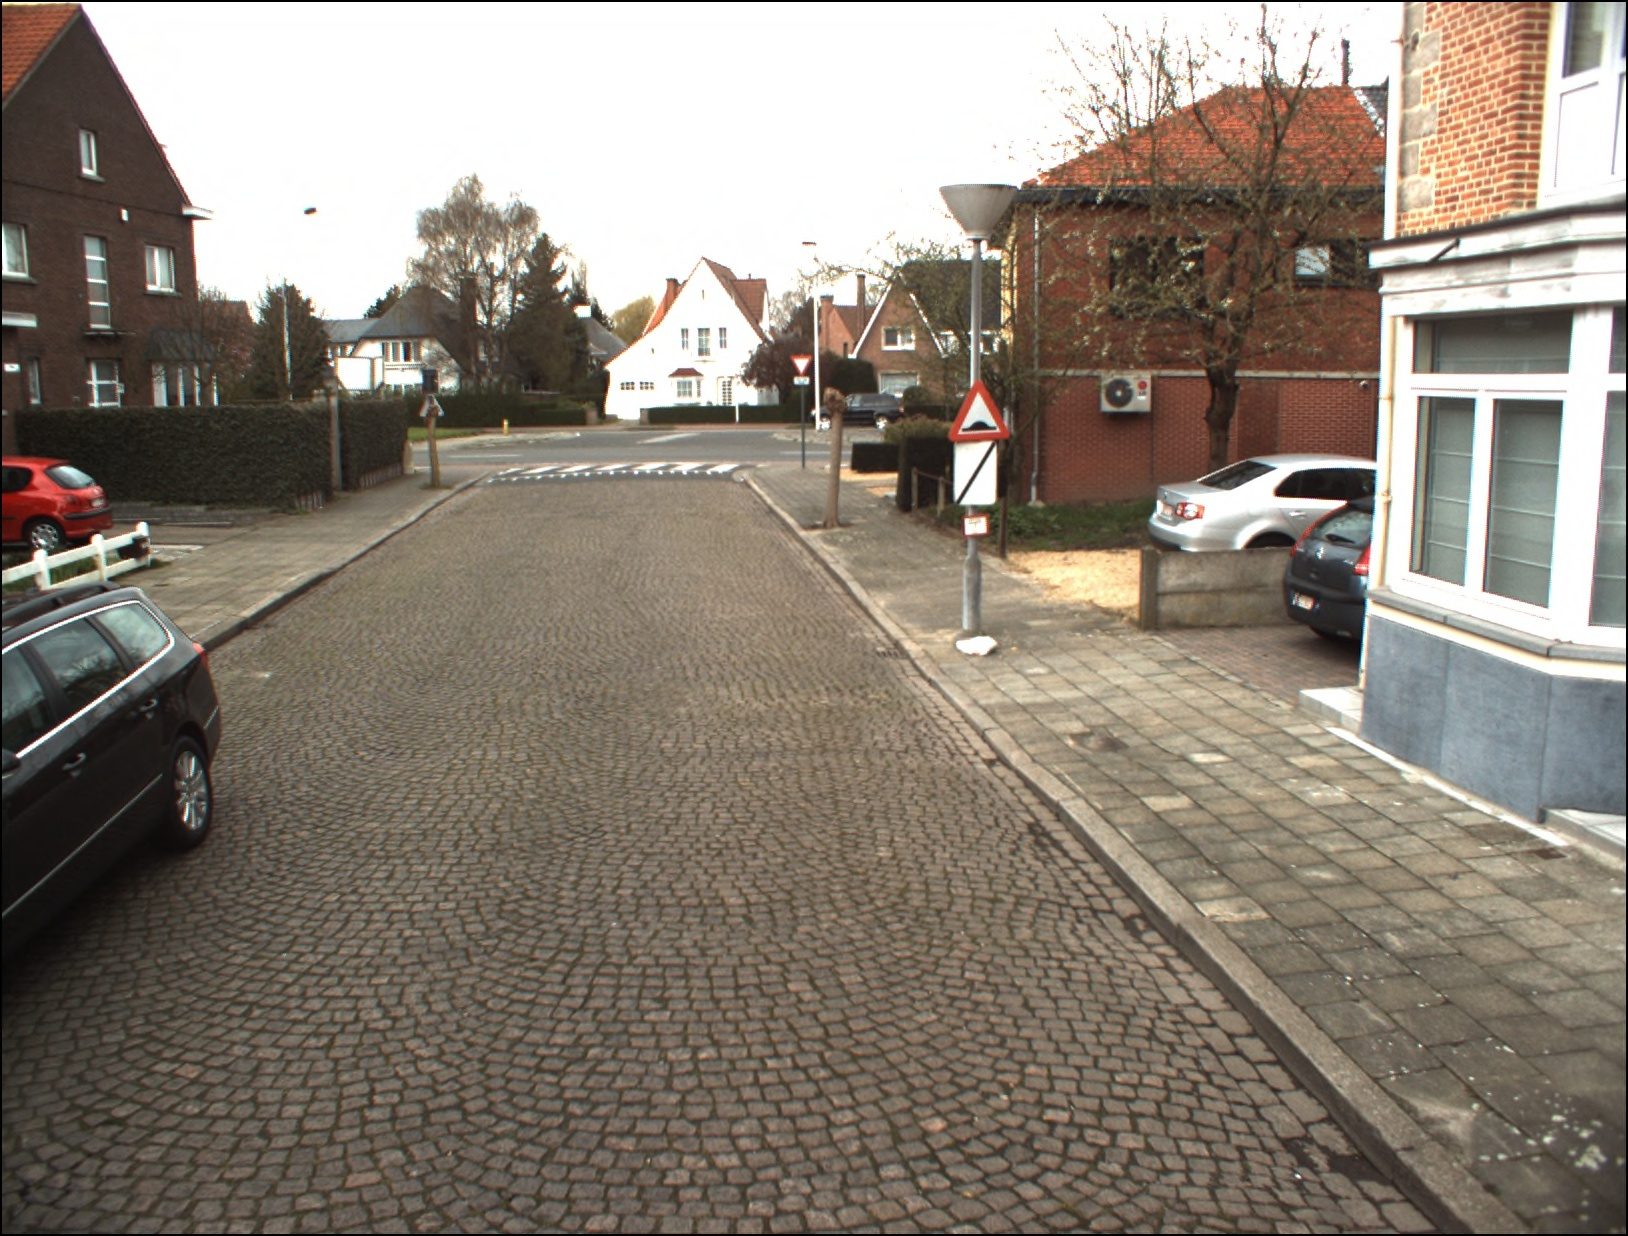speedbump: (940, 378, 1014, 443)
